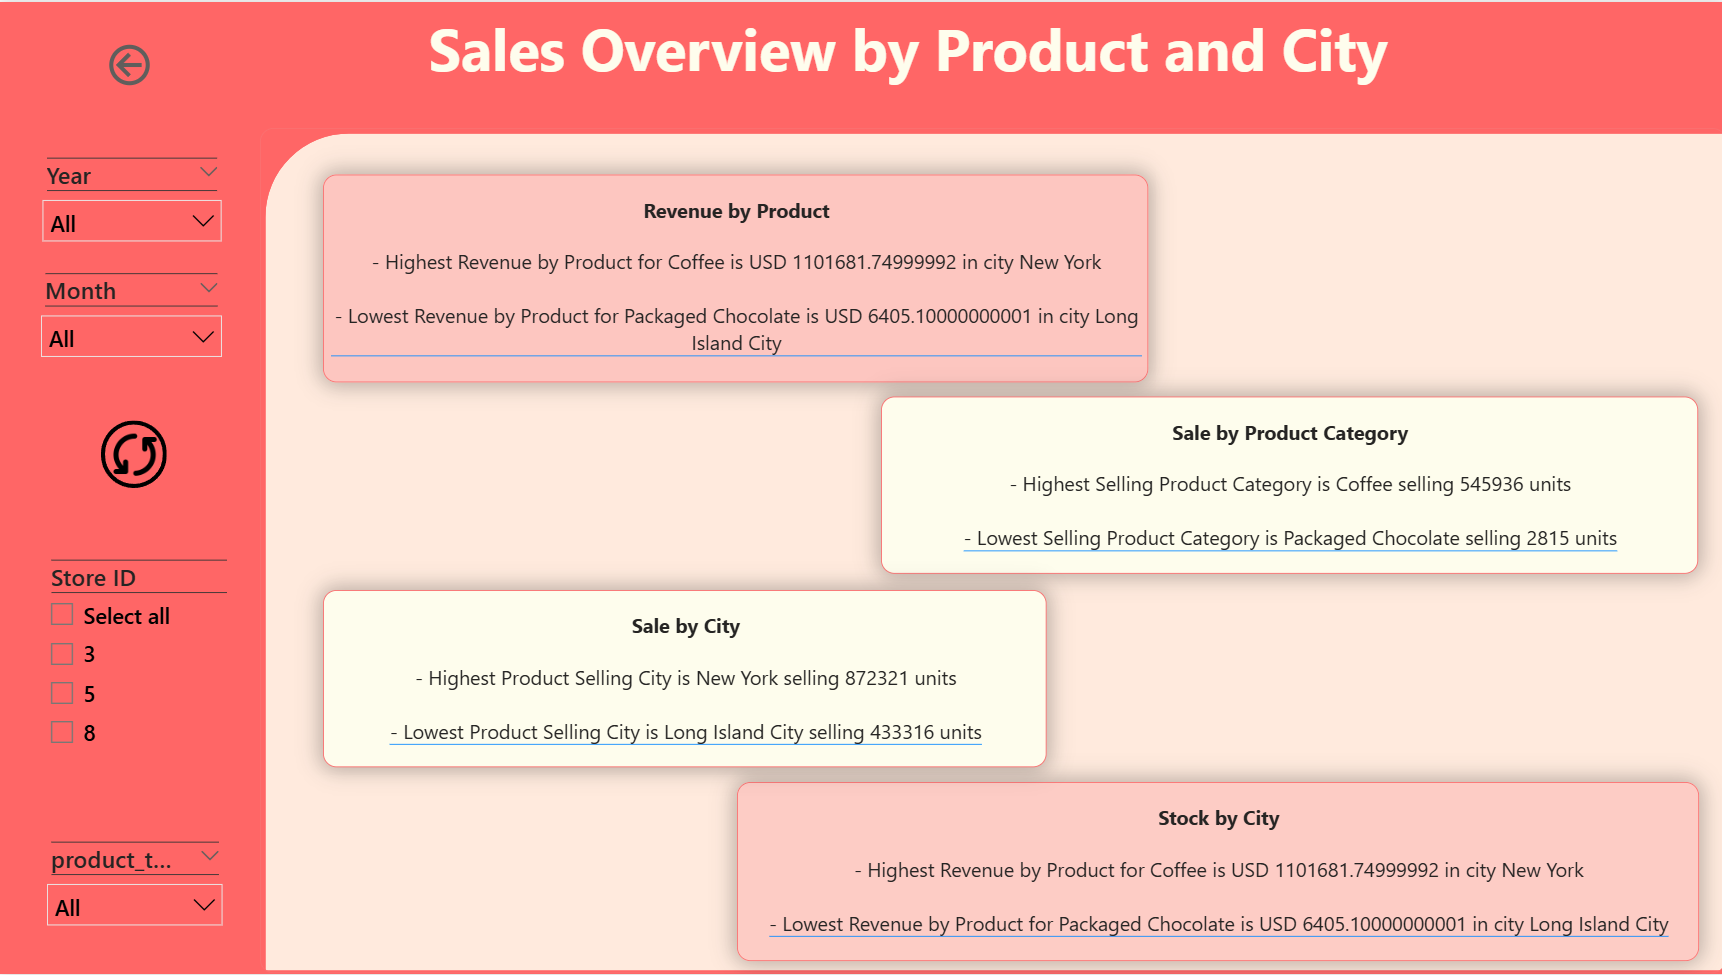

The page's visual inventory and layout, read from the dashboard file:
{"tool":"powerbi","page":{"name":"Overview","canvas":[1280,720],"ordinal":7},"visuals":[{"type":"shape","box":[193.8,93.8,1086.2,626.2],"z":0},{"type":"textbox","box":[161.6,0,1024.5,91.5],"z":1000},{"type":"slicer","title":"Year_Filter","fields":{"Values":["Calendar.Transaction_Date.Variation.Date Hierarchy.Year"]},"box":[22.5,110,152.5,76.2],"z":2000},{"type":"textbox","box":[240,127.5,611.2,153.8],"z":3000},{"type":"slicer","title":"Month_Filter","fields":{"Values":["Calendar.Transaction_Date.Variation.Date Hierarchy.Month"]},"box":[21.2,195,153.8,70],"z":4000},{"type":"textbox","box":[653.8,292.5,605,131.2],"z":5000},{"type":"slicer","title":"Store_Filter","fields":{"Values":["Sales_by_Store.store_id"]},"box":[25,407.5,156.2,161.2],"z":6000},{"type":"actionButton","box":[76.2,26.2,43.8,40],"z":7000},{"type":"slicer","title":"Product_Filter","fields":{"Values":["Product Lookup.product_type"]},"box":[25,616.2,150,68.8],"z":8000},{"type":"textbox","box":[546.2,577.5,712.5,132.5],"z":9000},{"type":"textbox","box":[240,435,536.2,131.2],"z":10000},{"type":"image","title":"Reset_Image","box":[75,310,50,50],"z":11000},{"type":"actionButton","title":"Reset_Button","box":[75,310,48.8,50],"z":12000}]}

Visuals, with their boxes in screenshot pixels (x1, y1, x2, y2), scaled from the page's 1280x720 canvas onto the 1722x975 screenshot:
shape: {"x1": 261, "y1": 127, "x2": 1721, "y2": 974}
textbox: {"x1": 217, "y1": 0, "x2": 1596, "y2": 124}
"Year_Filter" slicer: {"x1": 30, "y1": 149, "x2": 235, "y2": 252}
textbox: {"x1": 323, "y1": 173, "x2": 1145, "y2": 381}
"Month_Filter" slicer: {"x1": 29, "y1": 264, "x2": 235, "y2": 359}
textbox: {"x1": 880, "y1": 396, "x2": 1693, "y2": 574}
"Store_Filter" slicer: {"x1": 34, "y1": 552, "x2": 244, "y2": 770}
actionButton: {"x1": 103, "y1": 35, "x2": 161, "y2": 90}
"Product_Filter" slicer: {"x1": 34, "y1": 834, "x2": 235, "y2": 928}
textbox: {"x1": 735, "y1": 782, "x2": 1693, "y2": 961}
textbox: {"x1": 323, "y1": 589, "x2": 1044, "y2": 767}
"Reset_Image" image: {"x1": 101, "y1": 420, "x2": 168, "y2": 488}
"Reset_Button" actionButton: {"x1": 101, "y1": 420, "x2": 167, "y2": 488}
